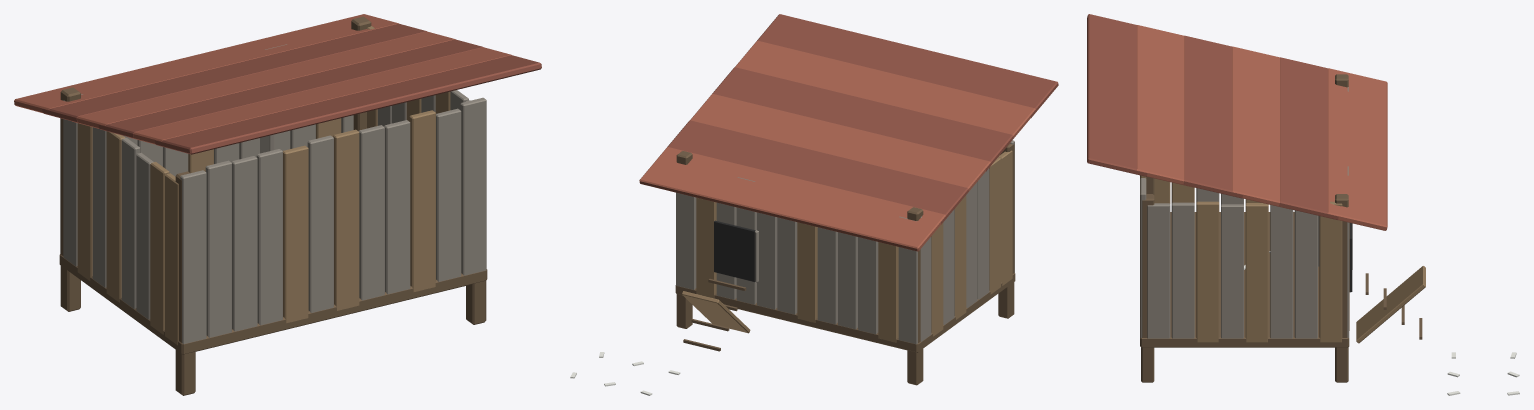
The model's file is v_coop.glb.
The picture shows the model from 3 angles, left to right: view 1: azimuth 30°, elevation 25°; view 2: azimuth 150°, elevation 25°; view 3: azimuth 270°, elevation 25°; orthographic projection. The views are drawn at different scales.
Visible parts, largest first — view 1: Kurnik; view 2: Kurnik; view 3: Kurnik.
Boxes of the visible parts, bbox=[...] form: Kurnik: bbox=[14, 14, 541, 395]; Kurnik: bbox=[570, 14, 1058, 395]; Kurnik: bbox=[1087, 14, 1519, 395].
Size of what is drawn, in the model's own units: 2.38 by 1.73 by 2.9.
